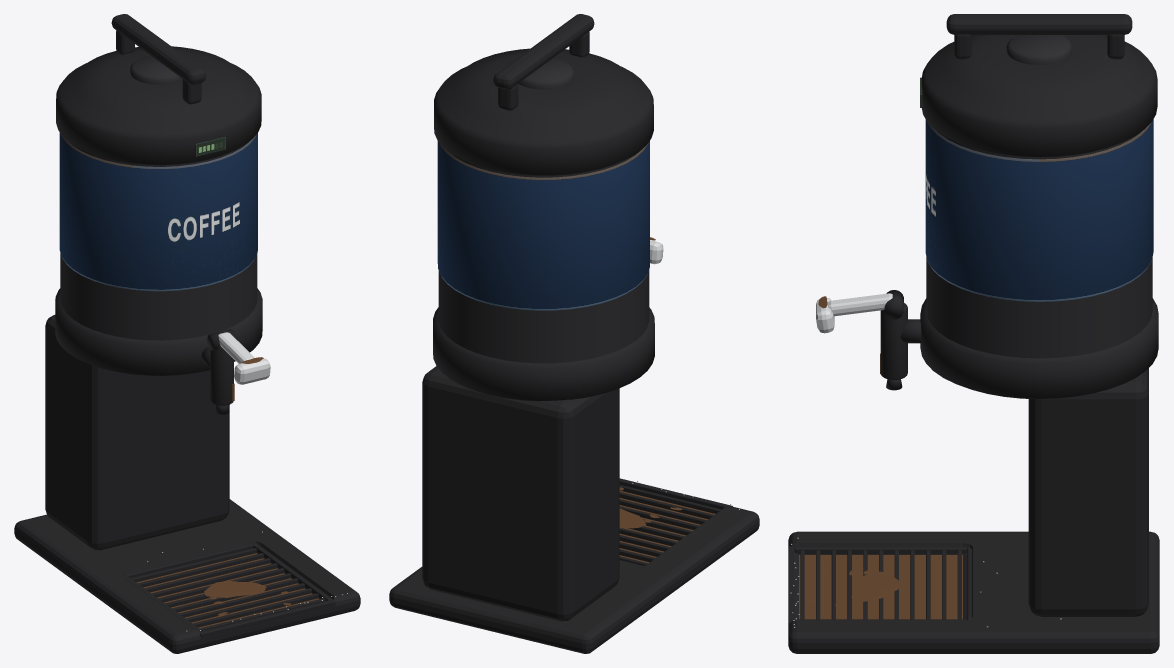
The model's file is hotel-coffee-tower.glb.
3 renders of one model, left to right at view 1: azimuth 30°, elevation 25°; view 2: azimuth 150°, elevation 25°; view 3: azimuth 270°, elevation 25°, orthographic. The views are drawn at different scales.
Visible parts, largest first — view 1: abs_black, band, powder_black, coffee_dried, lever; view 2: abs_black, band, powder_black, coffee_dried; view 3: abs_black, band, powder_black, coffee_dried, lever.
Boxes of the visible parts, x1=… form: abs_black: x1=14, y1=14, x2=360, y2=653; band: x1=59, y1=132, x2=257, y2=291; powder_black: x1=60, y1=55, x2=257, y2=340; coffee_dried: x1=136, y1=383, x2=318, y2=628; lever: x1=207, y1=329, x2=270, y2=384; abs_black: x1=389, y1=14, x2=759, y2=653; band: x1=437, y1=141, x2=649, y2=310; powder_black: x1=438, y1=58, x2=649, y2=363; coffee_dried: x1=619, y1=487, x2=715, y2=563; abs_black: x1=788, y1=14, x2=1159, y2=653; band: x1=925, y1=119, x2=1153, y2=301; powder_black: x1=926, y1=35, x2=1152, y2=358; coffee_dried: x1=799, y1=353, x2=962, y2=619; lever: x1=816, y1=290, x2=903, y2=333.
Bounding box in the file's own units: 0.23 × 0.593 × 0.34.
Materials: 5 (1 with a texture image).
